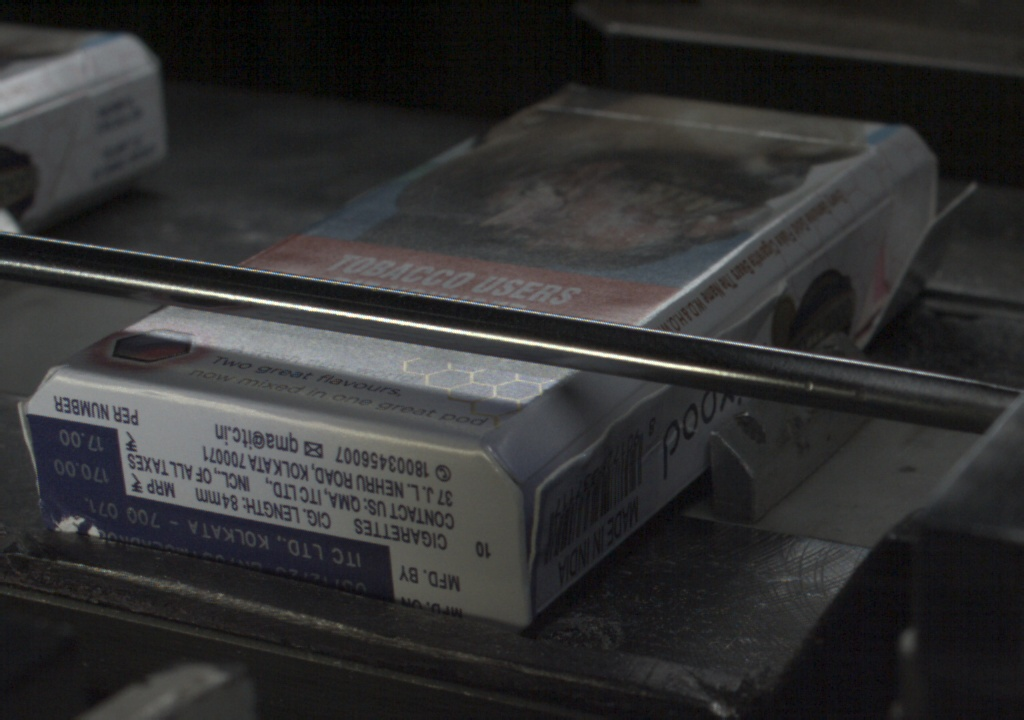g_label: (43, 488, 408, 607)
ng_bottom: (43, 508, 102, 538)
ng_lmiter: (524, 440, 591, 550), (589, 381, 659, 438), (718, 276, 786, 333)
ng_miter: (893, 168, 972, 226)
price: (33, 419, 133, 491)
